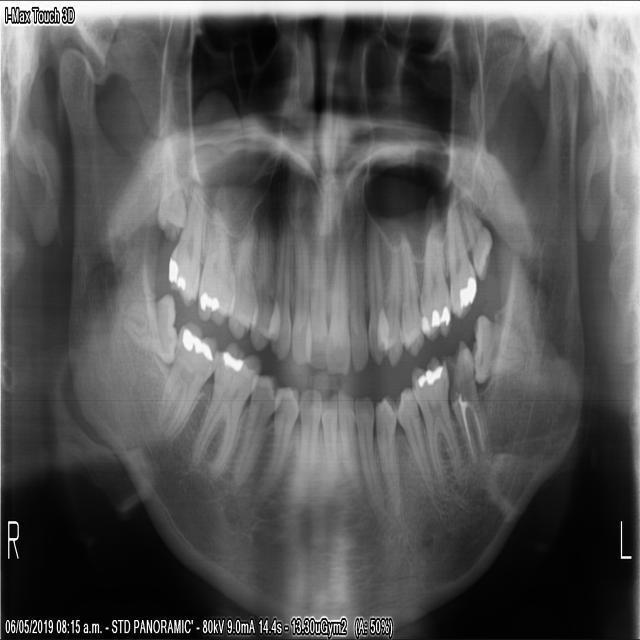LCD: (375, 394, 401, 514)
LCU: (367, 228, 385, 364)
LID: (353, 394, 383, 508), (338, 393, 360, 494)
LIU: (326, 232, 350, 377), (349, 232, 367, 375)
LMD: (410, 350, 469, 502), (449, 337, 492, 472), (472, 313, 528, 387)
LMU: (419, 223, 451, 343), (446, 200, 477, 320), (460, 189, 493, 283)
LPMD: (393, 382, 435, 483)
LPMU: (400, 238, 424, 354), (385, 237, 401, 367)
RCD: (260, 382, 301, 494)
RCU: (267, 208, 294, 363)
RID: (298, 385, 322, 489), (322, 390, 340, 483)
RIU: (309, 215, 328, 370), (291, 225, 310, 365)
RMD: (190, 345, 262, 480), (155, 323, 220, 439), (116, 295, 178, 367)
RMU: (163, 188, 207, 310), (197, 205, 234, 327), (154, 167, 185, 240)
RPMD: (232, 370, 276, 488)
RPMU: (228, 218, 256, 334), (250, 220, 272, 350)
